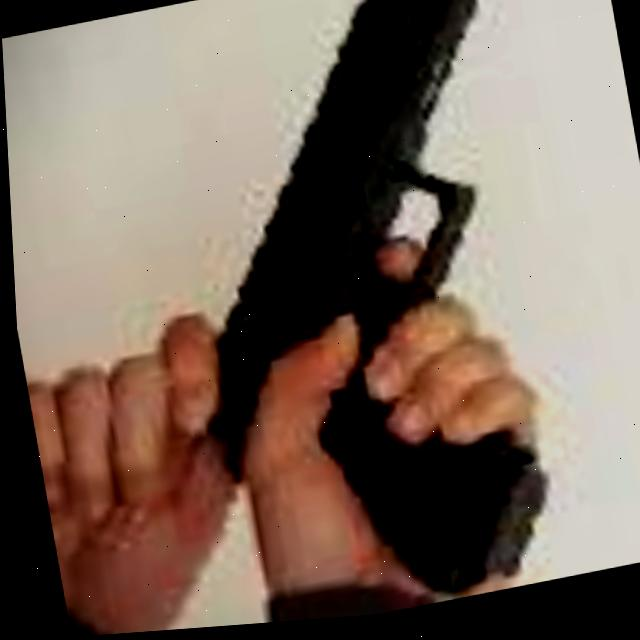pistol: (119, 0, 576, 633)
